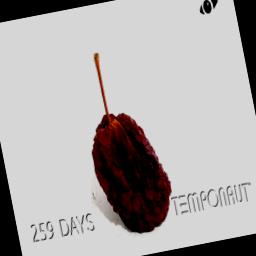Apple Rotten: (55, 9, 197, 244)
